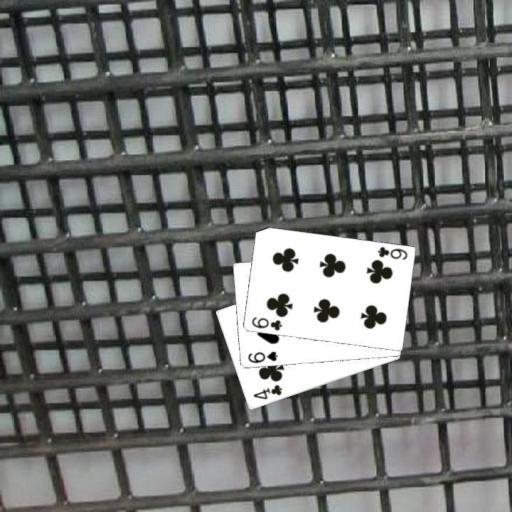4C: (250, 382, 284, 401)
6C: (248, 314, 283, 332), (374, 244, 408, 262)
6S: (245, 348, 279, 365)
